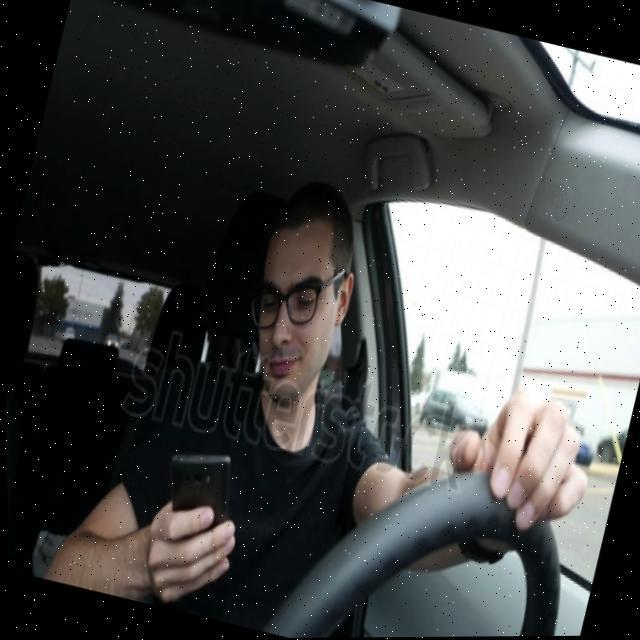PhoneCall: (146, 442, 246, 574)
